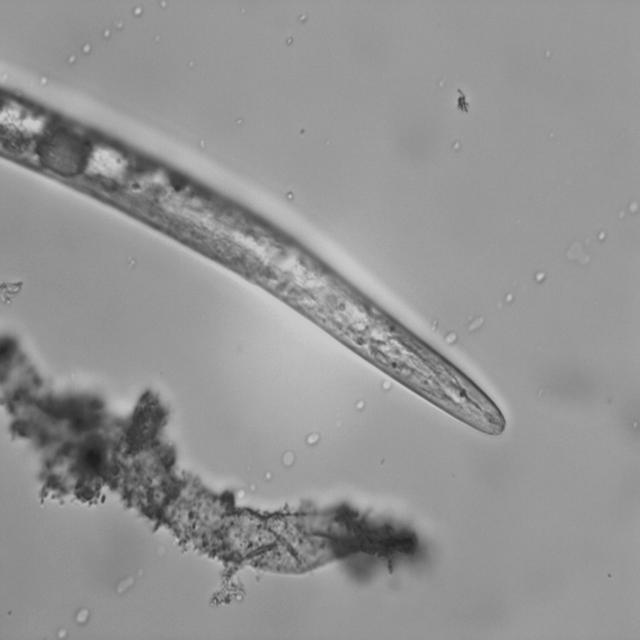Meloidogyne: (46, 108, 510, 448)
